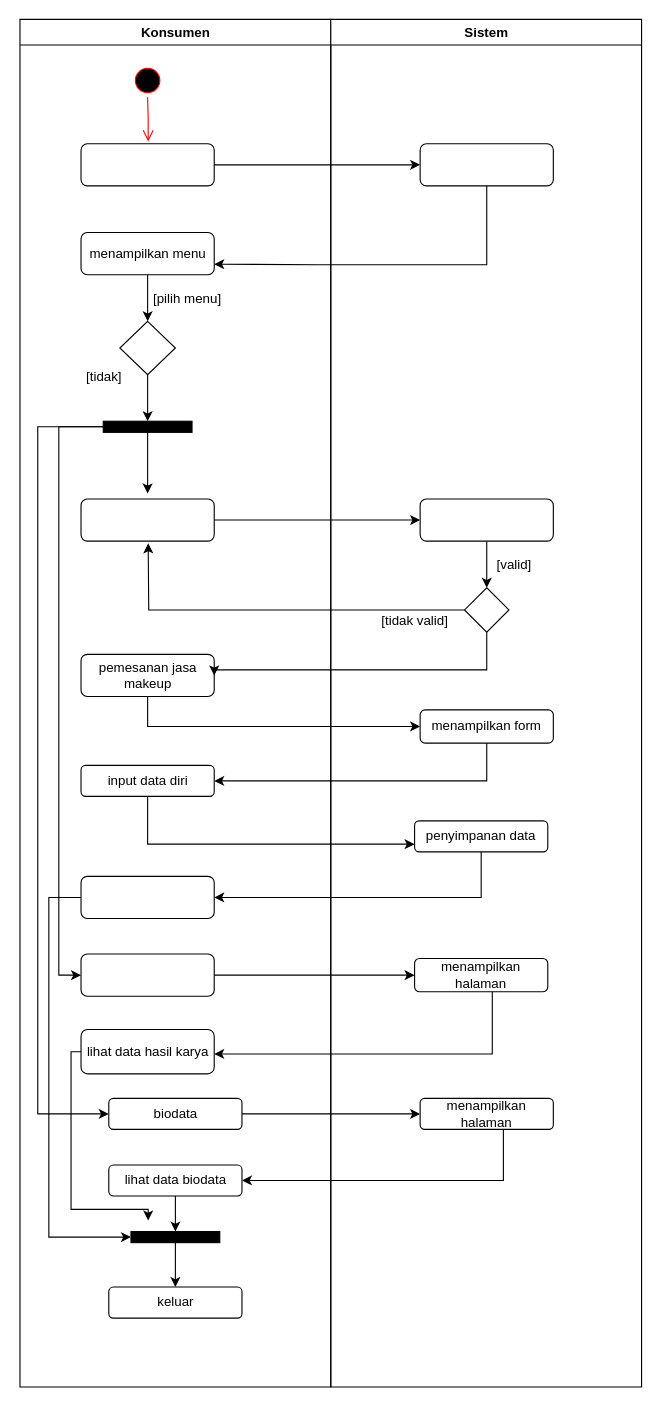
This 660x1406 diagram has some shape labels left out. Here are the shapes that lost their labels. From the top down, the centre of each, then its label:
At point (147, 164): "akses website".
At point (486, 164): "menampilkan website".
At point (147, 519): "login konsumen".
At point (486, 519): "cek validasi".
At point (147, 897): "lihat data pemesanan".
At point (147, 974): "hasil karya".
